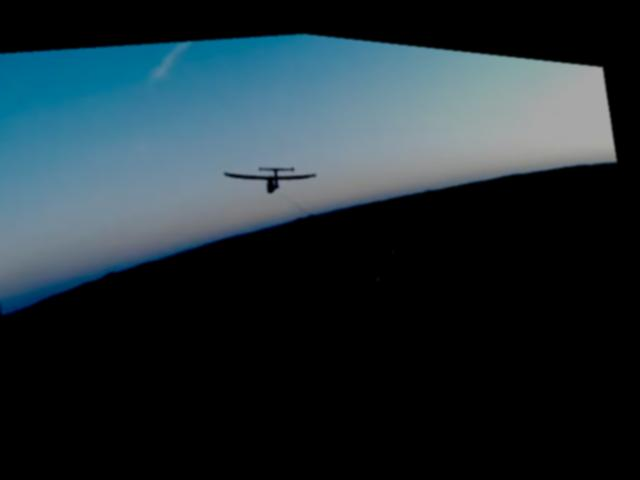uav: (218, 135, 323, 200)
